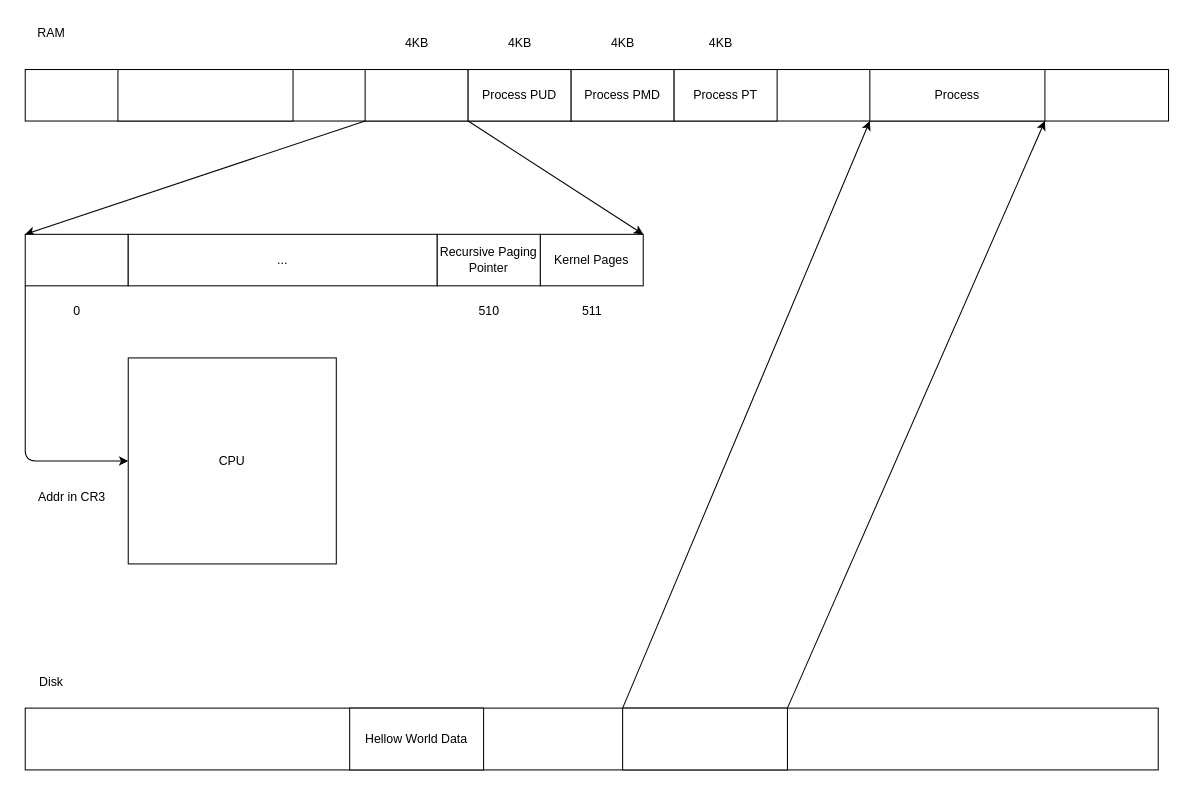
Some shapes in this 1187 by 788 pixel diagram are drawn without their labels. The centre of each missing label's shape, as x and y in pixels:
Echo Data: the point at 704,738
Kernel Code: the point at 205,94
Phys_Addr_Level3: the point at 76,259
Process PGD: the point at 416,94
